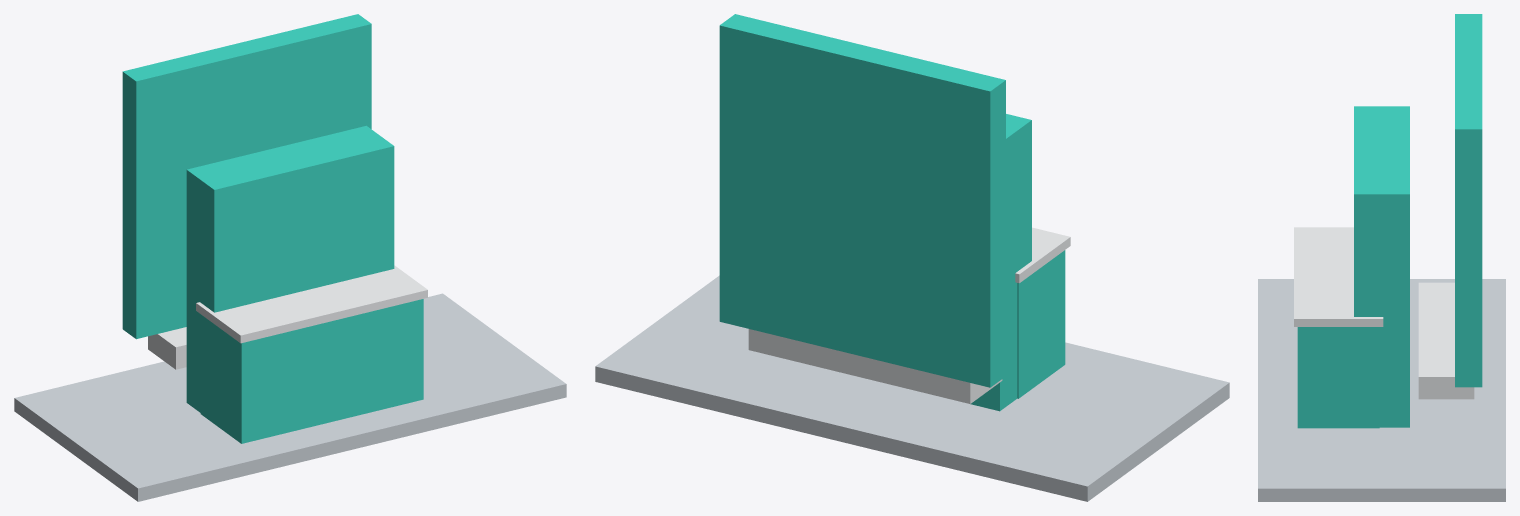
3 views of the same model, side by side, from view 1: azimuth 30°, elevation 25°; view 2: azimuth 150°, elevation 25°; view 3: azimuth 270°, elevation 25° (orthographic). The views are drawn at different scales.
Parts seen in each view (by area): view 1: Exhibition Booth Concept; view 2: Exhibition Booth Concept; view 3: Exhibition Booth Concept.
Part boxes in pixels (bbox=[...]): Exhibition Booth Concept: bbox=[14, 14, 566, 501]; Exhibition Booth Concept: bbox=[595, 14, 1229, 501]; Exhibition Booth Concept: bbox=[1258, 14, 1505, 501].
Size of the model in its own units: 4 by 2.9 by 2.
